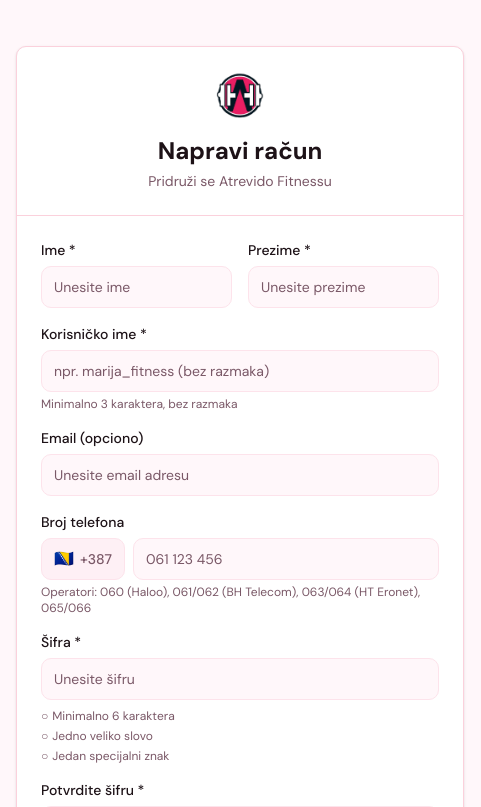
Test: Register page › blocks submit when terms not accepted
fill only one required field so form can trigger validation
Type "Imran" into the field with placeholder "Unesite ime" at (136, 287), box [41,266,232,308]
(page scrolled)
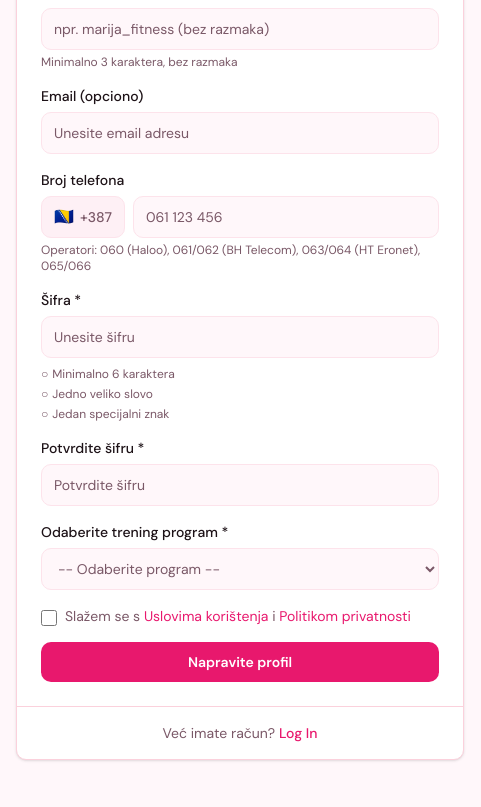
try submit without accepting terms
Click the button "Napravite profil" at (240, 662), box [41,642,439,682]
(page scrolled)
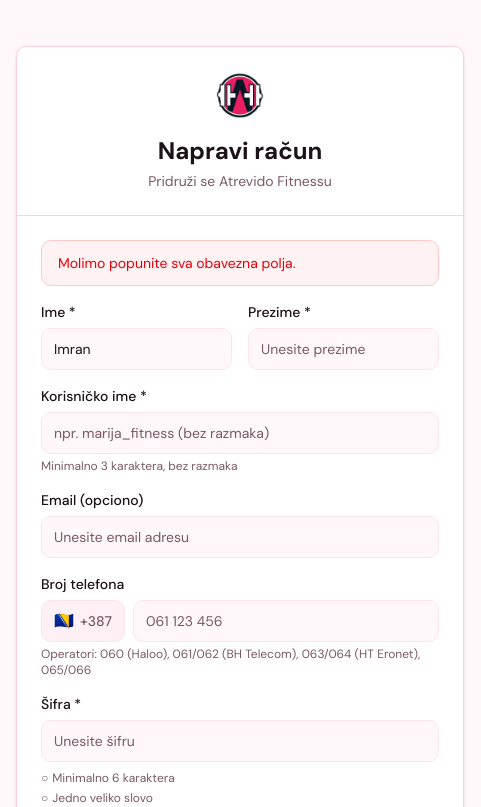
Check: the text "Molimo popunite sva obavezna polja." is shown, box [41,240,439,286]
